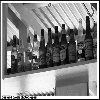beer: (60, 24, 69, 68)
